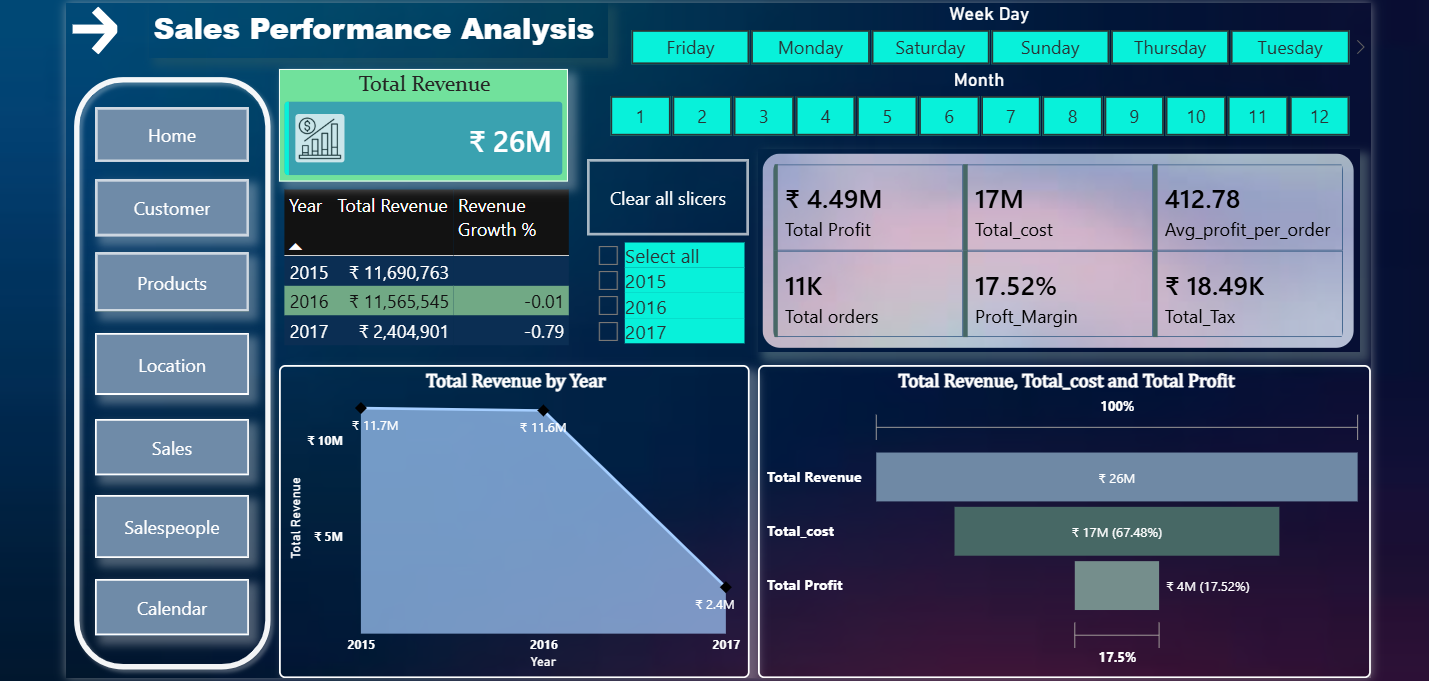

Layout of this report page (visuals, bound fields, positions):
{"tool":"powerbi","page":{"name":"Sales","canvas":[1450,750],"ordinal":5},"visuals":[{"type":"cardVisual","fields":{"Data":["Calendar.Total Profit","Calendar.Total orders","Sales.Total_cost","Calendar.Proft_Margin","Sales.Avg_profit_per_order","Calendar.Total_Tax"]},"box":[768.8,162.5,668.8,226.2],"z":0},{"type":"areaChart","fields":{"Category":["Calendar.Year"],"Y":["Calendar.Total Revenue"]},"box":[236.2,402.5,522.5,347.5],"z":1000},{"type":"funnel","fields":{"Y":["Calendar.Total Sales","Sales.Total_cost","Calendar.Total Profit"]},"box":[768.8,402.5,681.2,347.5],"z":2000},{"type":"shape","box":[0,73.8,236.2,676.2],"z":3000},{"type":"shape","box":[32.5,115,171.2,61.2],"z":4000},{"type":"shape","box":[32.5,195,171.2,63.8],"z":5000},{"type":"shape","box":[32.5,276.2,171.2,66.2],"z":6000},{"type":"shape","box":[32.5,366.2,171.2,68.8],"z":7000},{"type":"shape","box":[32.5,462.5,171.2,62.5],"z":8000},{"type":"shape","box":[32.5,640,171.2,62.5],"z":9000},{"type":"shape","box":[32.5,546.2,171.2,70],"z":10000},{"type":"textbox","box":[92.5,0,510,61.2],"z":11000},{"type":"slicer","title":"Week Day","fields":{"Values":["Calendar.DayOfWeekName"]},"box":[602.5,0,847.5,73.8],"z":12000},{"type":"tableEx","fields":{"Values":["Calendar.Year","Calendar.Total Revenue","Calendar.Revenue Growth %"]},"box":[236.2,202.5,331.2,186.2],"z":13000},{"type":"cardVisual","title":"Total Revenue","fields":{"Data":["Calendar.Total Revenue"]},"box":[236.2,73.8,321.2,125],"z":14000},{"type":"actionButton","box":[0,0,83.8,61.2],"z":15000},{"type":"slicer","title":"Month","fields":{"Values":["Calendar.MonthOfYear"]},"box":[578.8,73.8,871.2,81.2],"z":16000},{"type":"actionButton","box":[578.8,173.8,180,85],"z":17000},{"type":"slicer","title":"Year","fields":{"Values":["Calendar.Year"]},"box":[578.8,261.2,180,127.5],"z":18000}]}

Visuals, with their boxes on the page's 1450x750 design canvas (x1, y1, x2, y2). These are canvas units, not pixel positions in the 1429x681 screenshot, which may show the page scaled, cropped or inside an application window:
cardVisual - Calendar.Total Profit x Calendar.Total orders: [769,162,1438,389]
areaChart - Calendar.Year x Calendar.Total Revenue: [236,402,759,750]
funnel - Calendar.Total Sales x Sales.Total_cost: [769,402,1450,750]
shape: [0,74,236,750]
shape: [32,115,204,176]
shape: [32,195,204,259]
shape: [32,276,204,342]
shape: [32,366,204,435]
shape: [32,462,204,525]
shape: [32,640,204,702]
shape: [32,546,204,616]
textbox: [92,0,602,61]
"Week Day" slicer: [602,0,1450,74]
tableEx - Calendar.Year x Calendar.Total Revenue: [236,202,567,389]
"Total Revenue" cardVisual: [236,74,557,199]
actionButton: [0,0,84,61]
"Month" slicer: [579,74,1450,155]
actionButton: [579,174,759,259]
"Year" slicer: [579,261,759,389]
